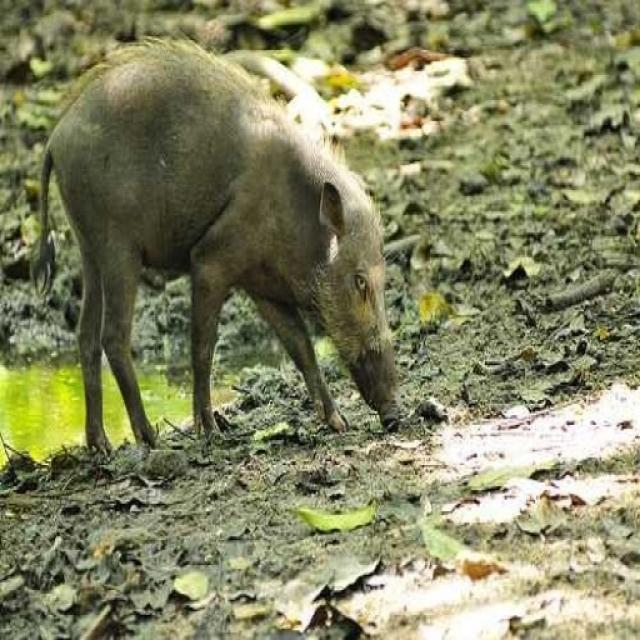pig: (27, 24, 434, 454)
